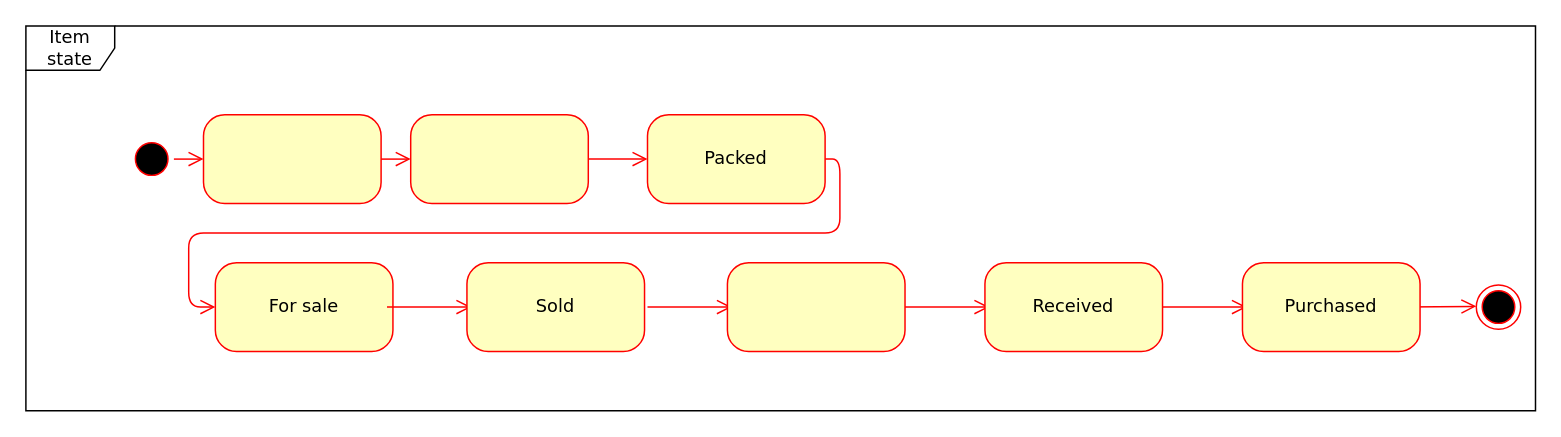
Some shapes in this 1561 by 437 pixel diagram are drawn without their labels. Each missing label, with the centre of its shape:
Harvested: (291,158)
Processed: (498,158)
Shipped: (815,306)
